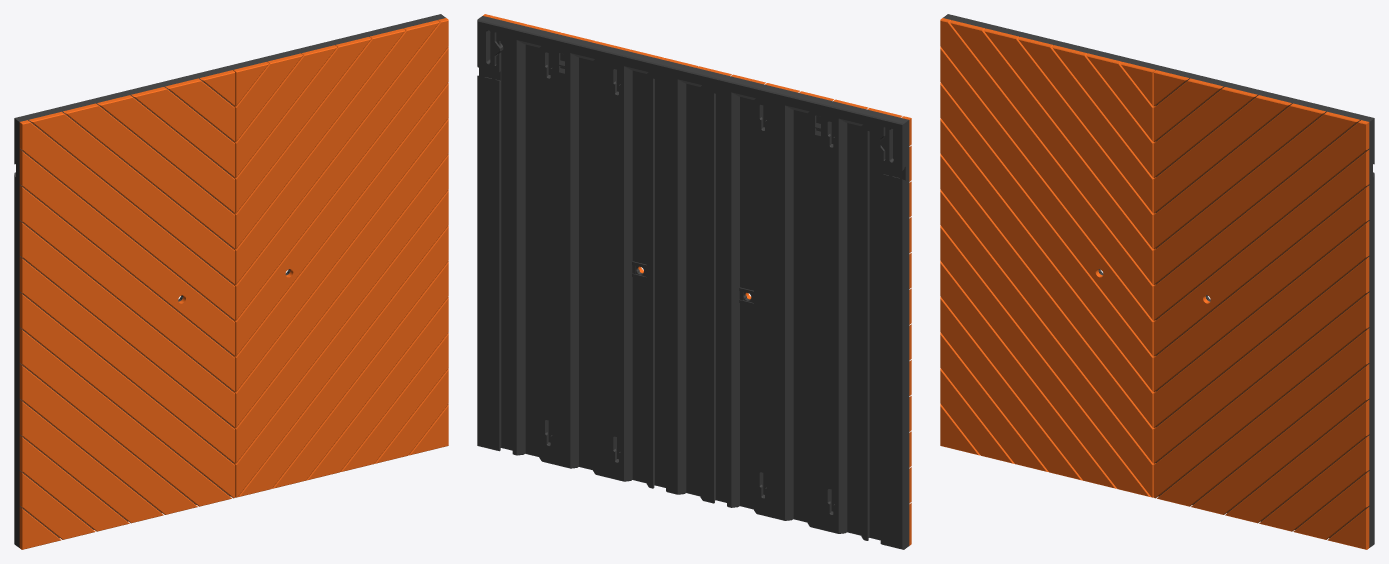
Rendered from Faceplate_Chevron_2W-3H.lib.glb.
3 views of the same model, side by side, from view 1: azimuth 30°, elevation 25°; view 2: azimuth 150°, elevation 25°; view 3: azimuth 330°, elevation 25° (orthographic).
Parts seen in each view (by area): view 1: Faceplate_Chevron_2W-3H; view 2: Faceplate_Chevron_2W-3H; view 3: Faceplate_Chevron_2W-3H.
Boxes of the visible parts, x1,y1,x2,y2 form: Faceplate_Chevron_2W-3H: (14,14,448,549); Faceplate_Chevron_2W-3H: (477,14,911,549); Faceplate_Chevron_2W-3H: (940,14,1374,549).
Bounding box in the file's own units: 175 × 167 × 6.2.
